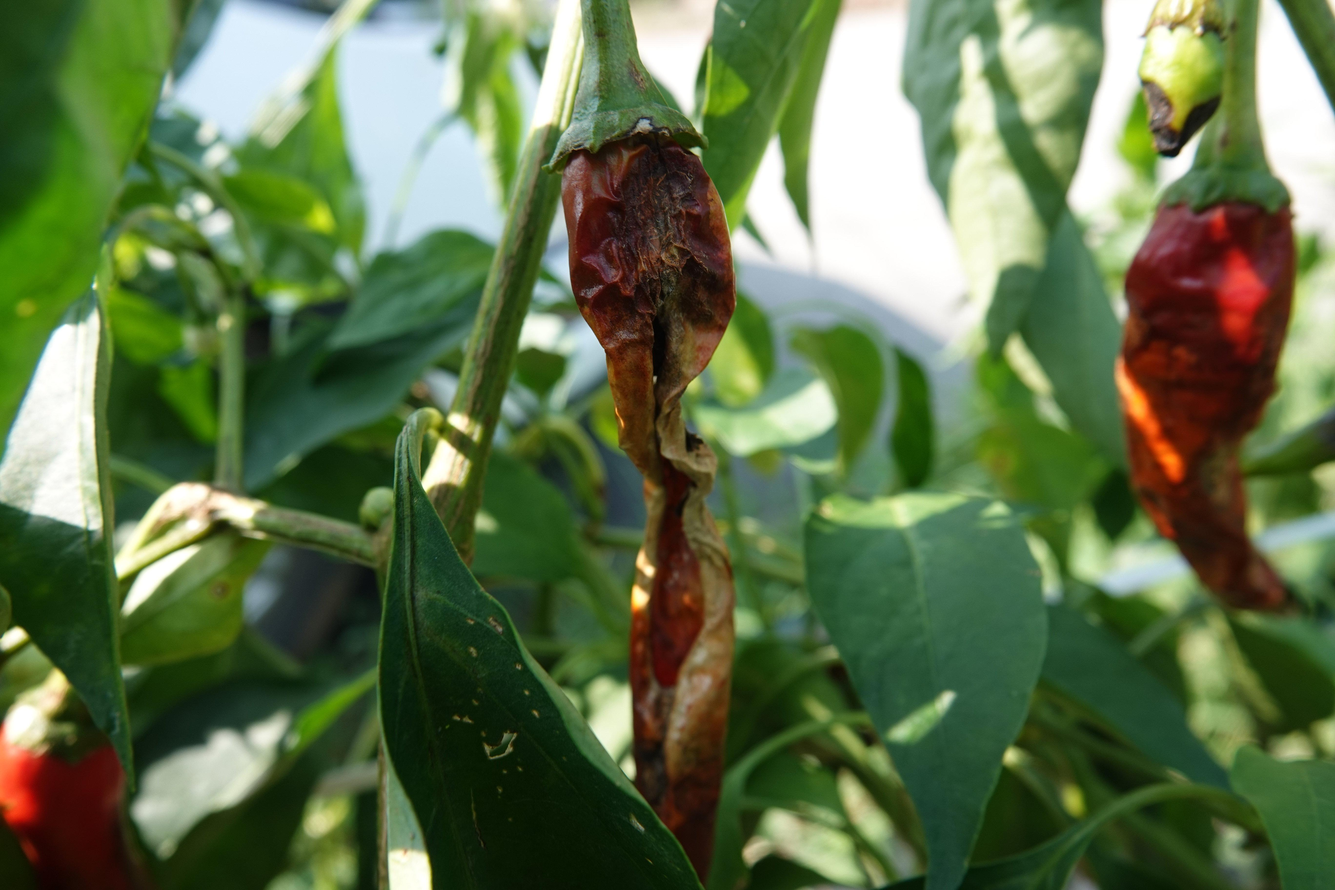Busuk Buah Antraknosa: (554, 84, 760, 887), (1115, 140, 1335, 633)
